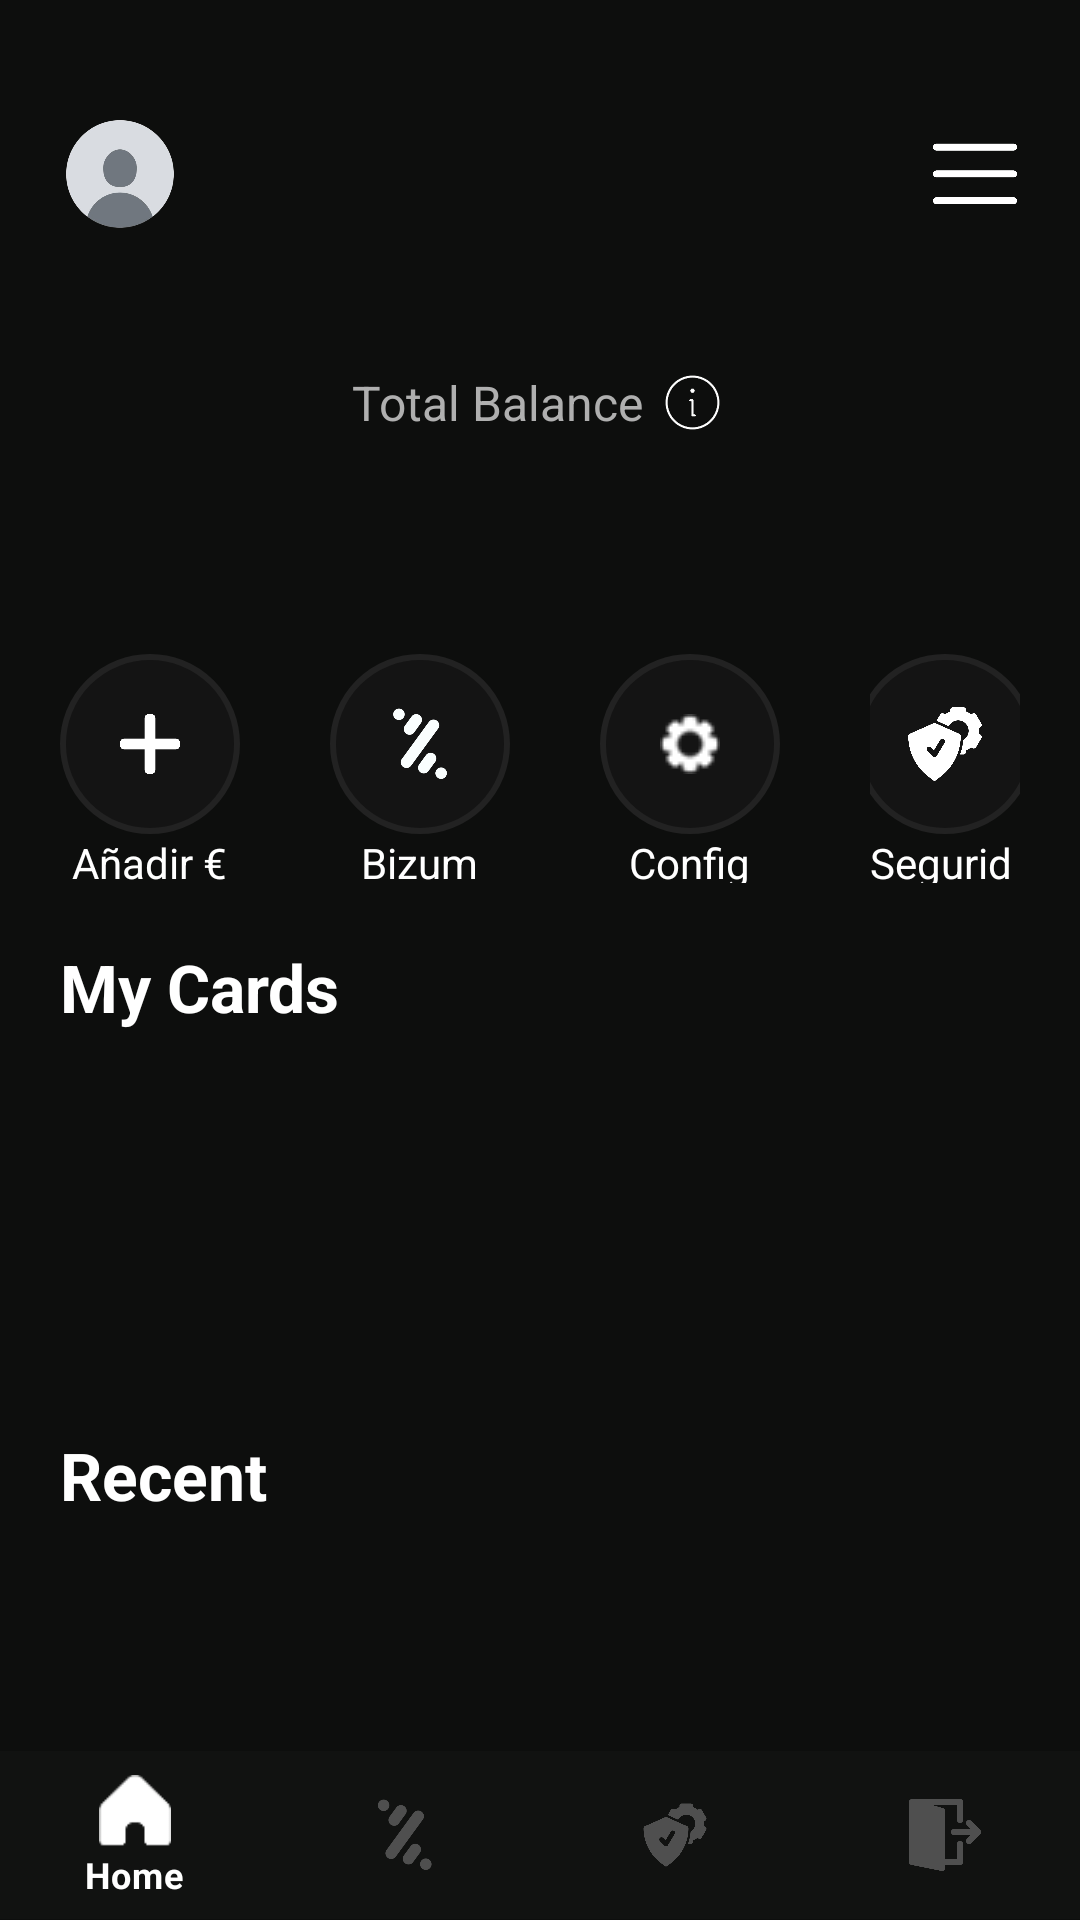

Icons on this 1080px x 1920px Android screen, each with its box as (x1, y1, x2, y2):
Balance info: (665, 375, 720, 430)
profile: (66, 120, 174, 228)
